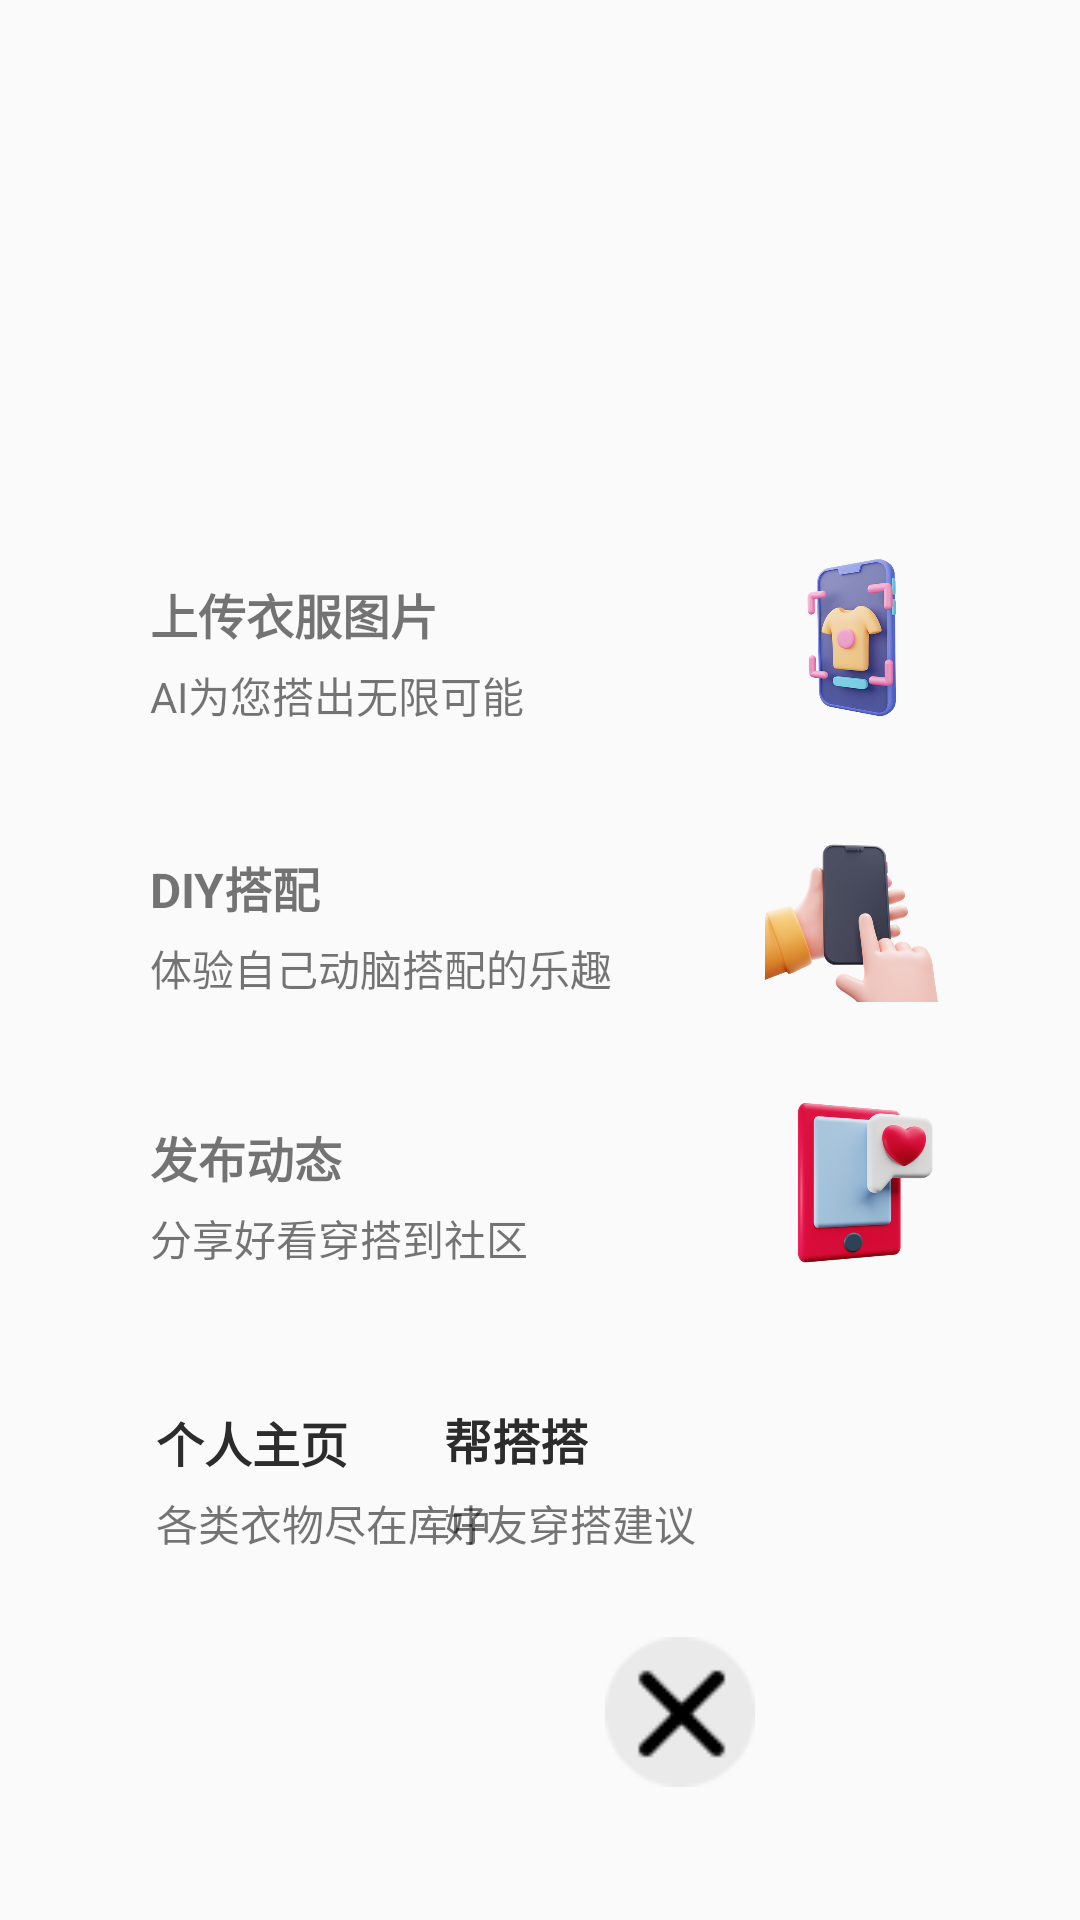

Named icons in this screenshot (1080×1920) and their bounding boxes, {"left": x1, "top": y1, "right": x2, "bottom": y2}:
close: {"left": 638, "top": 1670, "right": 726, "bottom": 1758}
share: {"left": 798, "top": 1103, "right": 932, "bottom": 1263}
